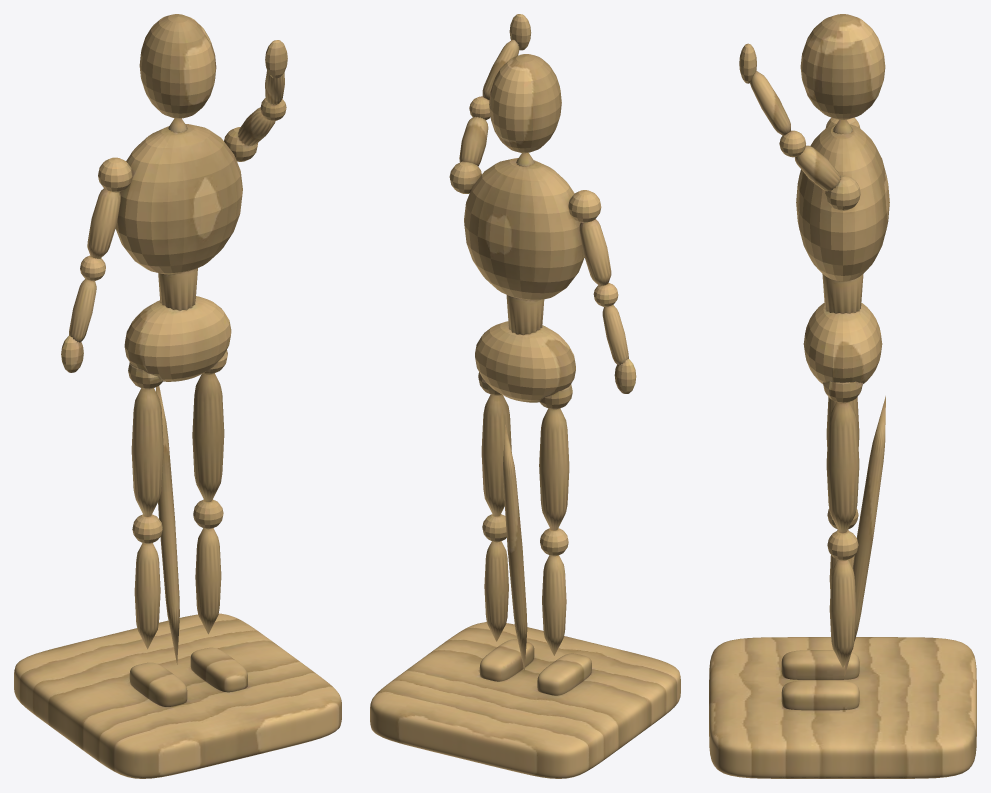
The model's file is thinking.glb.
3 views of the same model, side by side, from view 1: azimuth 30°, elevation 25°; view 2: azimuth 150°, elevation 25°; view 3: azimuth 270°, elevation 25° (orthographic). The views are drawn at different scales.
Parts seen in each view (by area): view 1: mannequin_wood; view 2: mannequin_wood; view 3: mannequin_wood.
Boxes of the visible parts, x1,y1,x2,y2 form: mannequin_wood: [14, 14, 341, 778]; mannequin_wood: [370, 14, 680, 778]; mannequin_wood: [709, 14, 976, 778].
Size of the model in its own units: 0.1212 by 0.352 by 0.12.
Materials: 1 (1 with a texture image).
